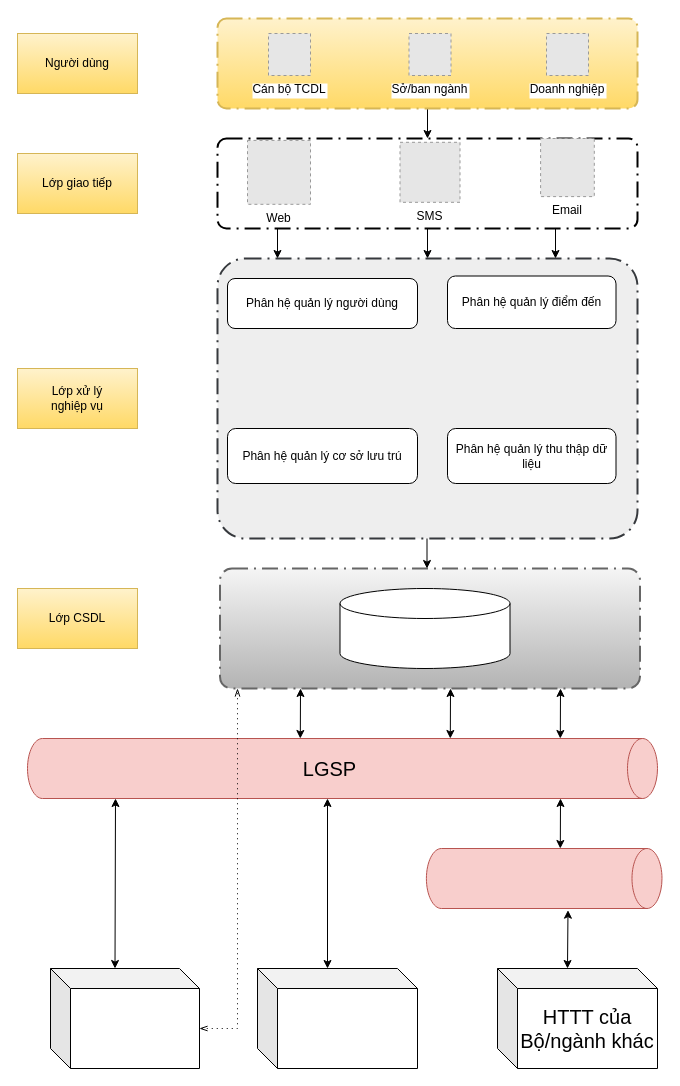
The diagram is 680 pixels wide and 1086 high, and some of its shapes have lost their labels. Grey dashed boxes stand in for pictures. Here are the shapes that lost their labels. From the top down, the box of each, then its label:
(339, 588, 510, 668): CSDL
(425, 848, 662, 908): NGSP
(50, 968, 200, 1068): HTTT của TCDL
(256, 968, 418, 1068): HTTT của Bộ VHTTDL
